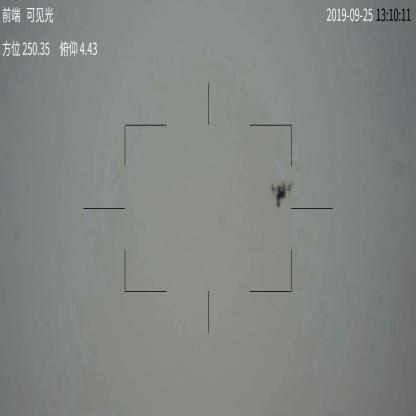uav: (267, 179, 292, 209)
